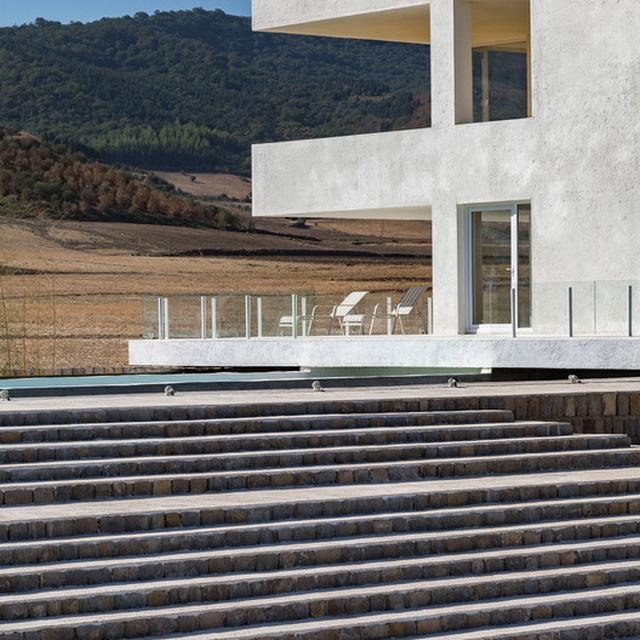building: (249, 0, 640, 372)
